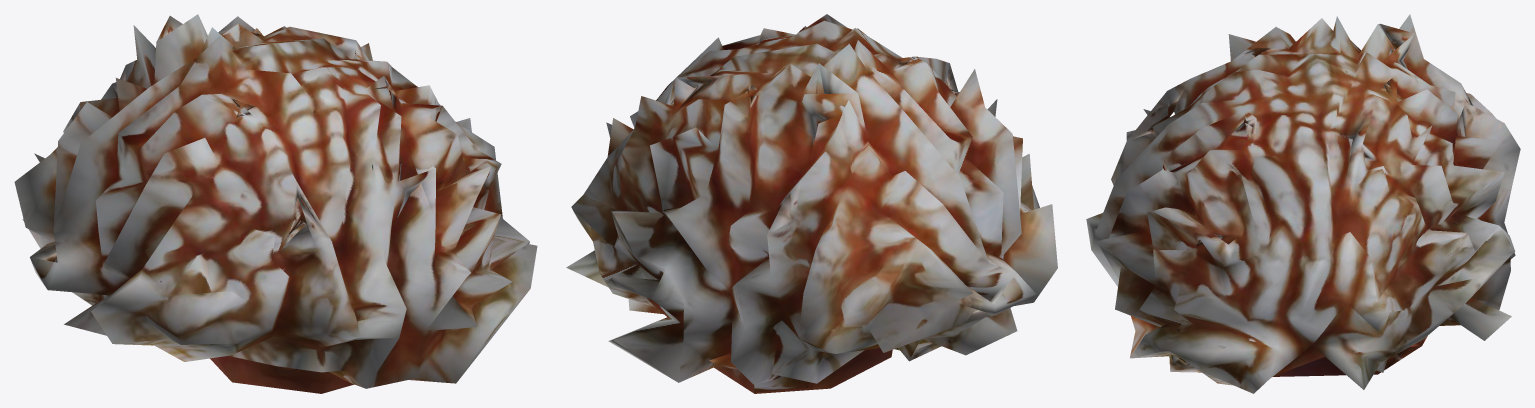
Rendered from coral_03.glb.
The picture shows the model from 3 angles, left to right: view 1: azimuth 30°, elevation 25°; view 2: azimuth 150°, elevation 25°; view 3: azimuth 270°, elevation 25°; orthographic projection. The views are drawn at different scales.
Parts seen in each view (by area): view 1: mesh; view 2: mesh; view 3: mesh.
Part boxes in pixels (box(x1,y1,x2,y2)): mesh: box(14, 14, 537, 393); mesh: box(566, 14, 1057, 393); mesh: box(1086, 14, 1520, 393).
Size of the model in its own units: 1.01 by 0.7078 by 0.9011.
1 material, 1 textured.
